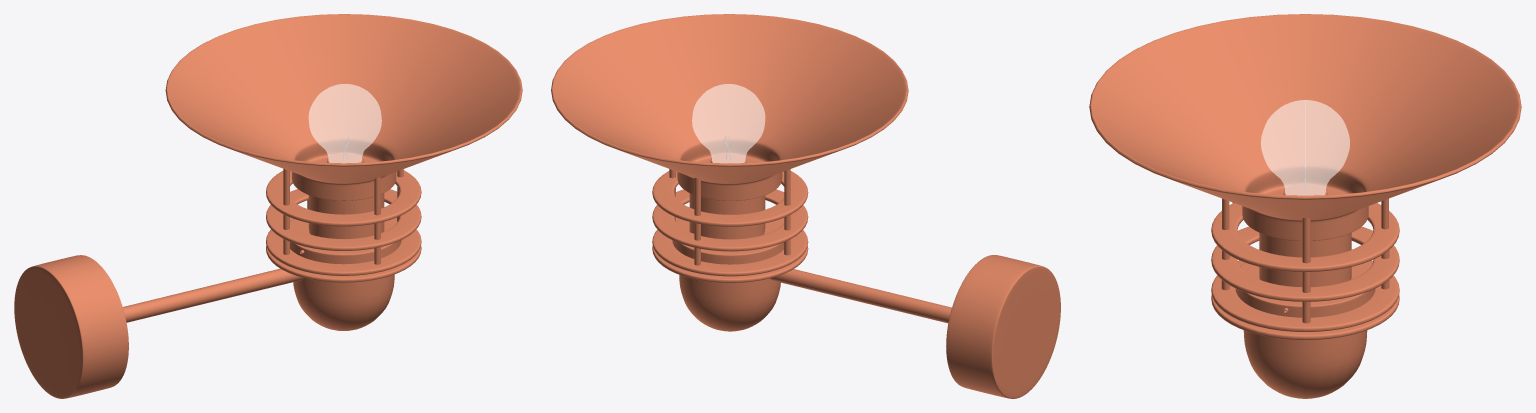
File: Nyhavn_Wall_Outdoor.glb
3 views of the same model, side by side, from view 1: azimuth 30°, elevation 25°; view 2: azimuth 150°, elevation 25°; view 3: azimuth 270°, elevation 25° (orthographic). The views are drawn at different scales.
Visible parts, largest first — view 1: polySurface2, polySurface1; view 2: polySurface2, polySurface1; view 3: polySurface2, polySurface1.
Boxes of the visible parts, left/top/right/bottom form: polySurface2: left=14, top=14, right=522, bottom=398; polySurface1: left=308, top=84, right=381, bottom=163; polySurface2: left=551, top=14, right=1060, bottom=398; polySurface1: left=692, top=84, right=765, bottom=163; polySurface2: left=1089, top=14, right=1521, bottom=398; polySurface1: left=1261, top=100, right=1349, bottom=195.
Size of the model in its own units: 0.445 by 0.225 by 0.3041.
2 materials, 2 textured.
